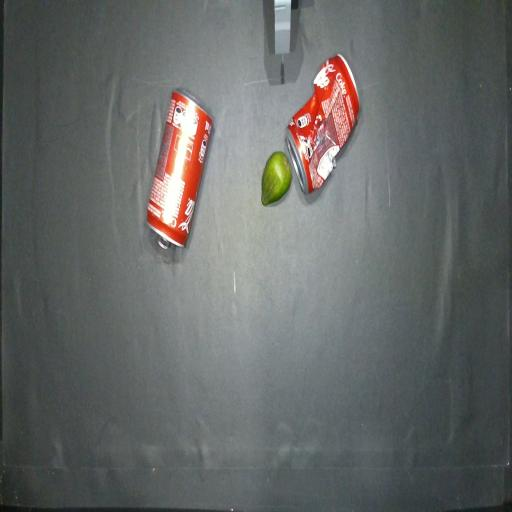higo: (261, 151, 291, 205)
lata: (147, 90, 213, 248), (286, 54, 359, 193)
